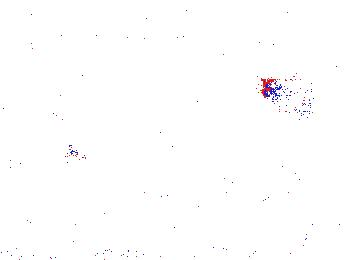flame jellyfish: (242, 160, 313, 204), (38, 144, 90, 201), (262, 75, 322, 121)
